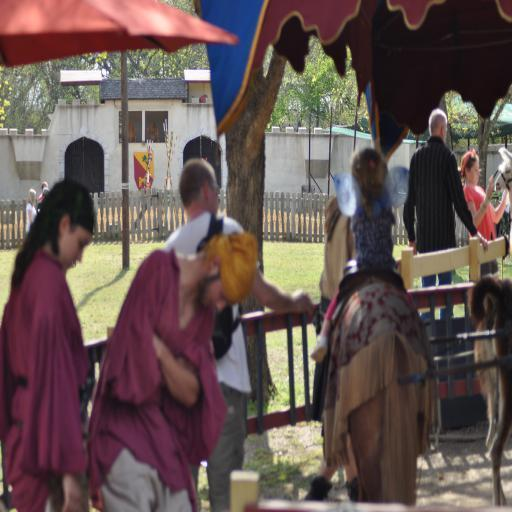horse: (320, 196, 432, 501)
